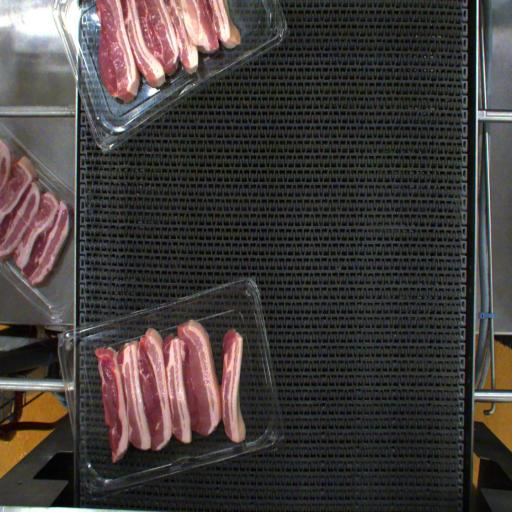loose-meat: (215, 320, 250, 444)
